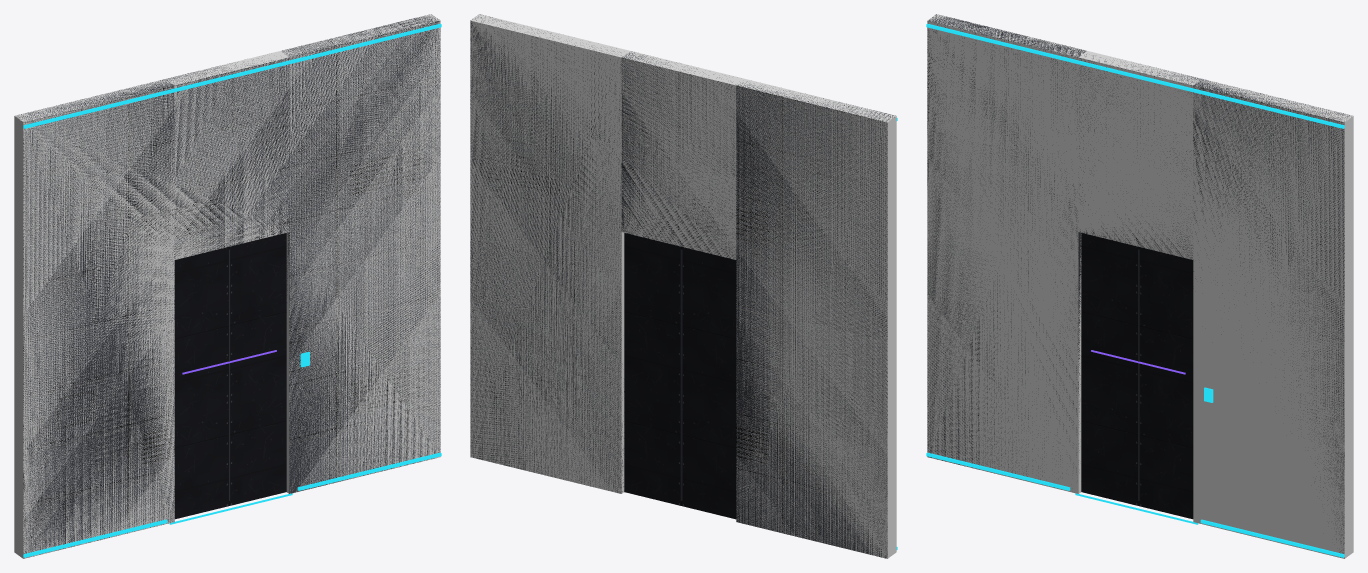
The model's file is Arch_Wall_Door_4m.gltf.
3 views of the same model, side by side, from view 1: azimuth 30°, elevation 25°; view 2: azimuth 150°, elevation 25°; view 3: azimuth 330°, elevation 25° (orthographic).
Visible parts, largest first — view 1: Arch_Wall_Door_4m, Arch_Wall_Door_4m_COL, Arch_Wall_Door_4m_COL1, Arch_Wall_Door_4m_COL2; view 2: Arch_Wall_Door_4m, Arch_Wall_Door_4m_COL, Arch_Wall_Door_4m_COL1, Arch_Wall_Door_4m_COL2; view 3: Arch_Wall_Door_4m_COL1, Arch_Wall_Door_4m_COL, Arch_Wall_Door_4m, Arch_Wall_Door_4m_COL2.
Boxes of the visible parts, <box> form: Arch_Wall_Door_4m: <box>16,14,441,558</box>; Arch_Wall_Door_4m_COL: <box>14,79,174,558</box>; Arch_Wall_Door_4m_COL1: <box>281,14,440,493</box>; Arch_Wall_Door_4m_COL2: <box>166,51,289,259</box>; Arch_Wall_Door_4m: <box>470,14,897,558</box>; Arch_Wall_Door_4m_COL: <box>736,79,896,558</box>; Arch_Wall_Door_4m_COL1: <box>470,14,629,493</box>; Arch_Wall_Door_4m_COL2: <box>621,51,744,259</box>; Arch_Wall_Door_4m_COL1: <box>1193,79,1353,558</box>; Arch_Wall_Door_4m_COL: <box>927,14,1086,493</box>; Arch_Wall_Door_4m: <box>926,14,1351,557</box>; Arch_Wall_Door_4m_COL2: <box>1078,51,1201,259</box>.
Bounding box in the file's own units: 4 × 4.02 × 0.168.
Materials: 5 (2 with a texture image).
